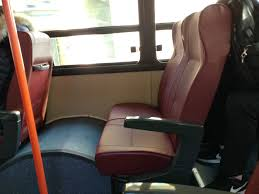seat: (94, 4, 238, 173)
